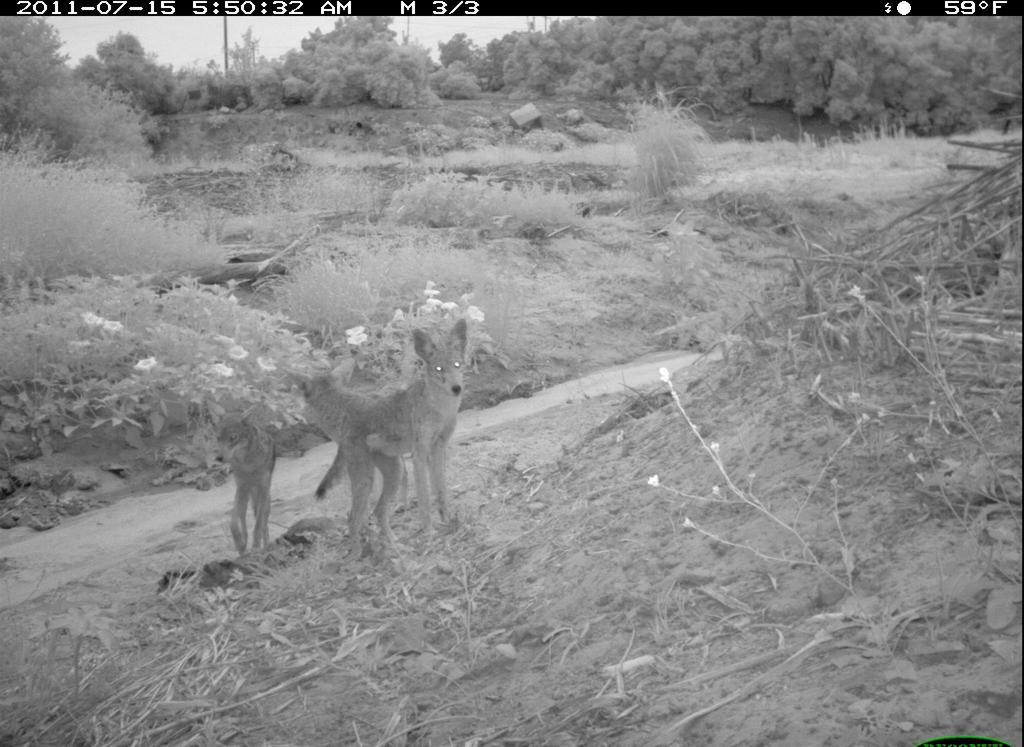coyote: (315, 316, 474, 551), (287, 356, 427, 539), (197, 394, 282, 564)
